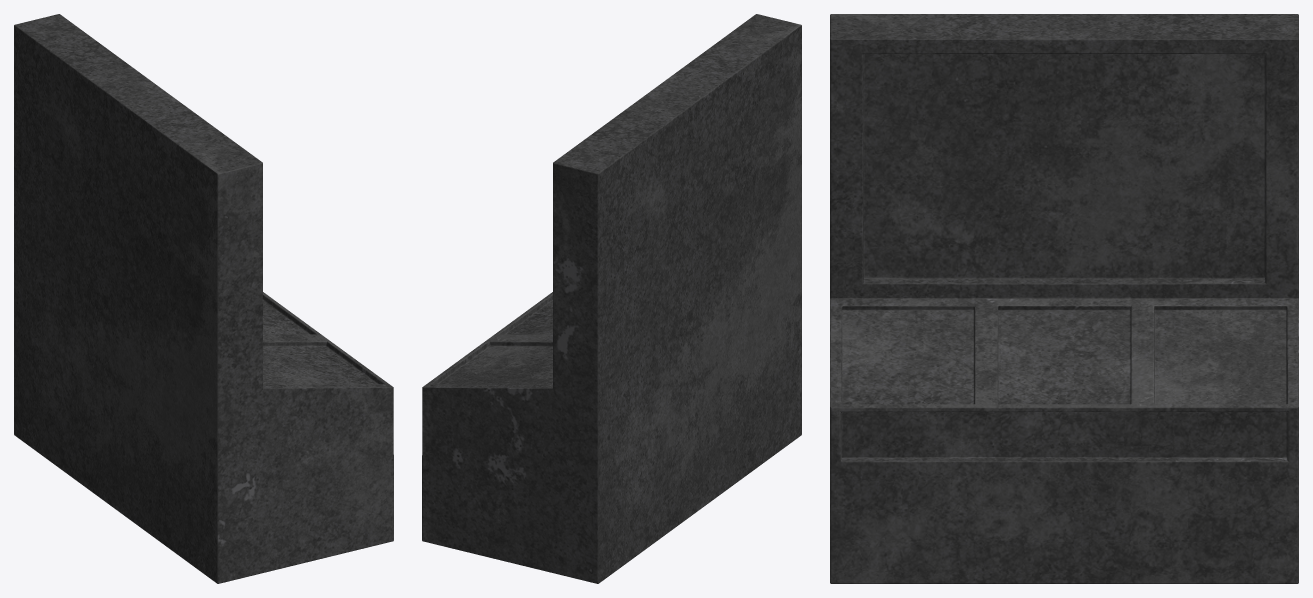
The model's file is Console.fbx.
3 renders of one model, left to right at view 1: azimuth 30°, elevation 25°; view 2: azimuth 150°, elevation 25°; view 3: azimuth 270°, elevation 25°, orthographic. The views are drawn at different scales.
Parts seen in each view (by area): view 1: Cube; view 2: Cube; view 3: Cube.
Part boxes in pixels (bbox=[...]): Cube: bbox=[14, 14, 393, 583]; Cube: bbox=[422, 14, 801, 583]; Cube: bbox=[830, 14, 1298, 583].
Size of the model in its own units: 2 by 4.44 by 4.
Materials: 1 (1 with a texture image).
